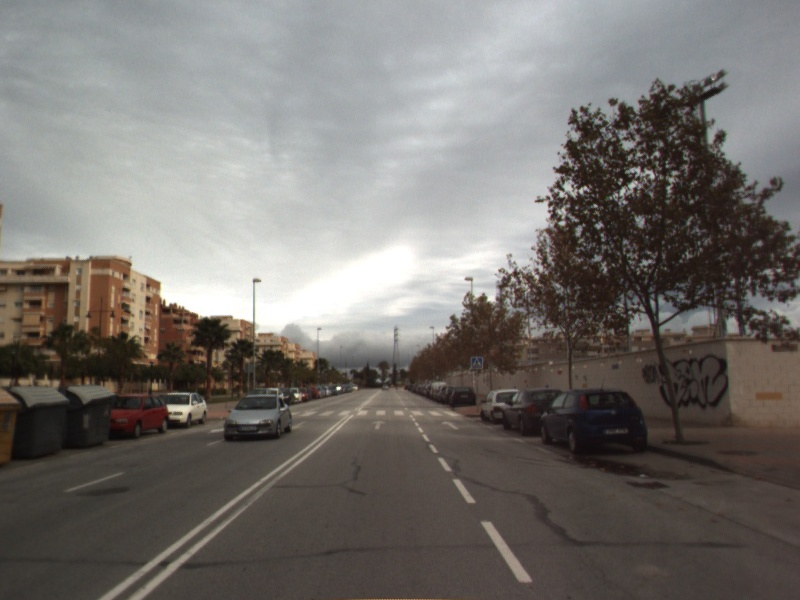STRAIGHT: (440, 419, 461, 431), (370, 418, 388, 431)
